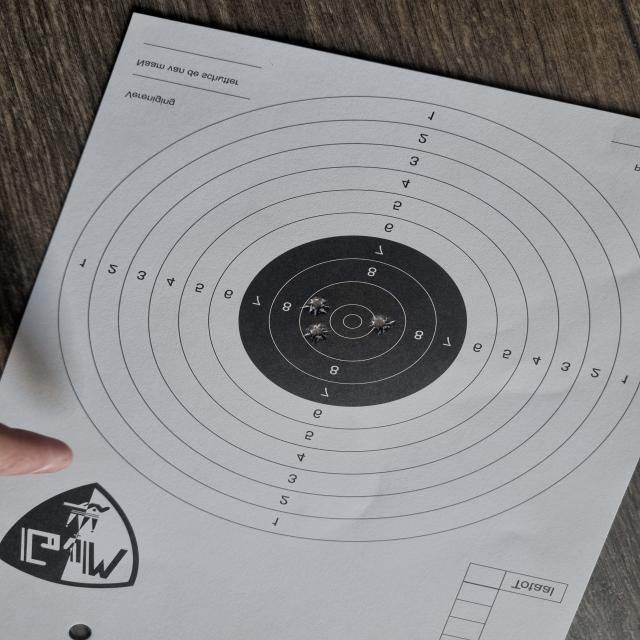10: (368, 315, 397, 335)
9: (301, 323, 332, 344), (298, 296, 330, 316)
Target: (56, 93, 640, 545)
black_contour: (238, 235, 467, 408)
